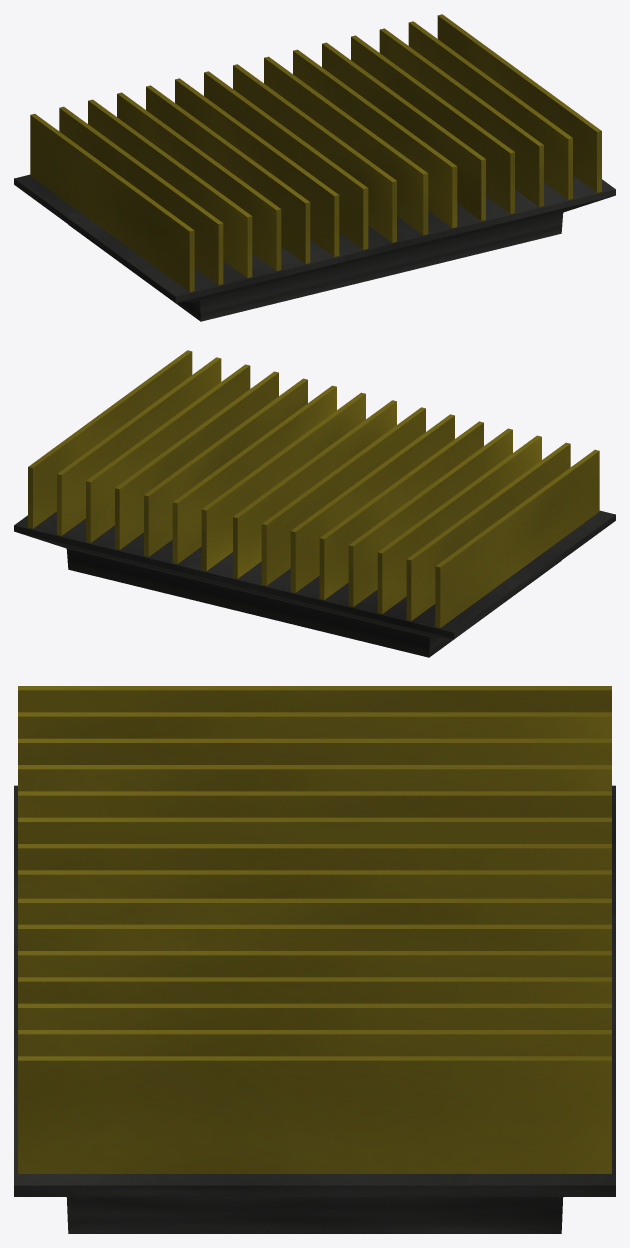
The model's file is Motherboard component7.fbx.
3 views of the same model, one above another, from view 1: azimuth 30°, elevation 25°; view 2: azimuth 150°, elevation 25°; view 3: azimuth 270°, elevation 25° (orthographic). The views are drawn at different scales.
Parts seen in each view (by area): view 1: Motherboard component 1; view 2: Motherboard component 1; view 3: Motherboard component 1.
Part boxes in pixels (<box>): Motherboard component 1: <box>14,14,615,321</box>; Motherboard component 1: <box>14,350,615,657</box>; Motherboard component 1: <box>14,686,615,1233</box>.
Size of the model in its own units: 11.71 by 2.7 by 7.44.
